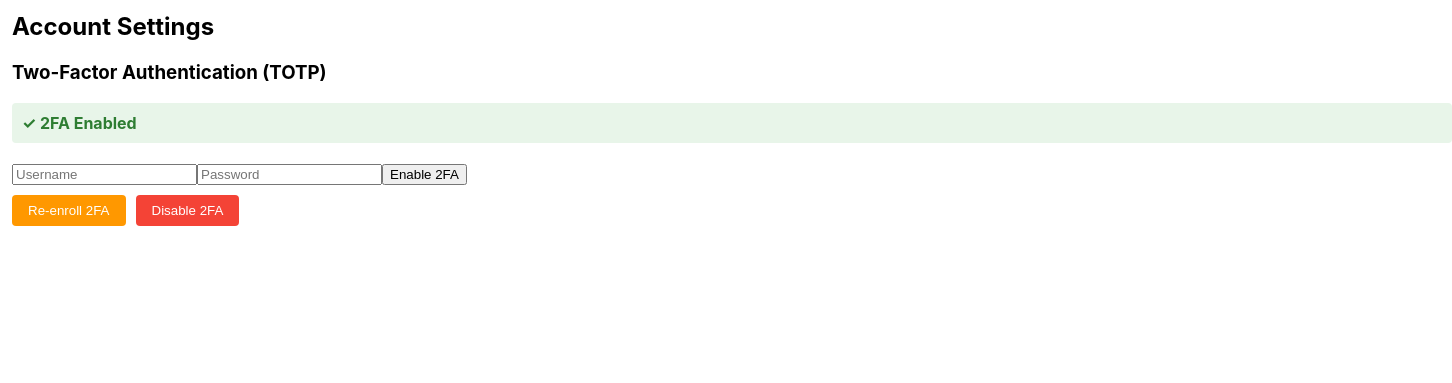
Scenario: Account 2FA Enrollment › allows canceling re-enrollment
Click re-enroll button
Click the button "Re-enroll 2FA". click: coordinates (69, 210)
box: [12,194,126,226]
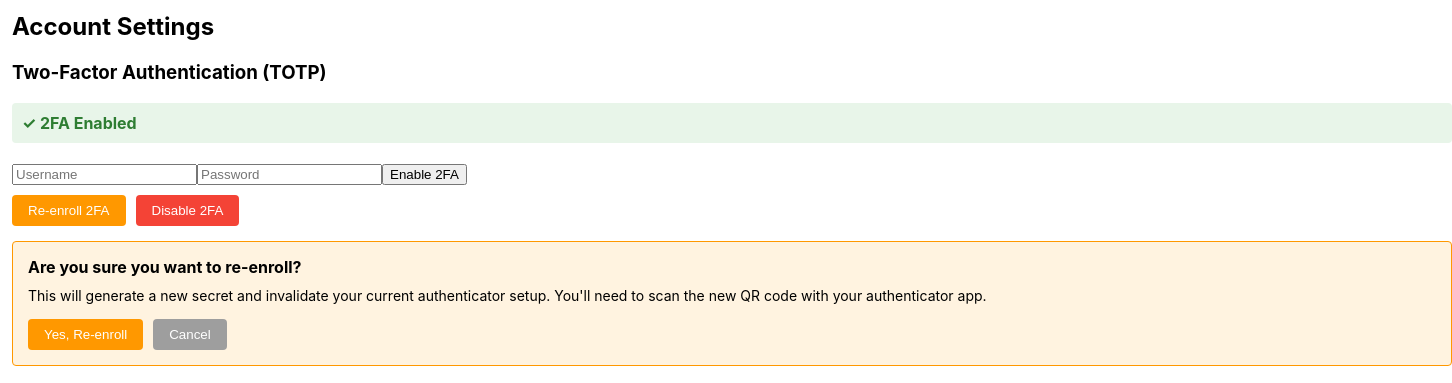
Result: the text "Are you sure you want to re-enroll?" is shown at [28,256,302,276]
Click cancel
Click the button "Cancel". click: coordinates (190, 334)
box: [153,318,227,350]
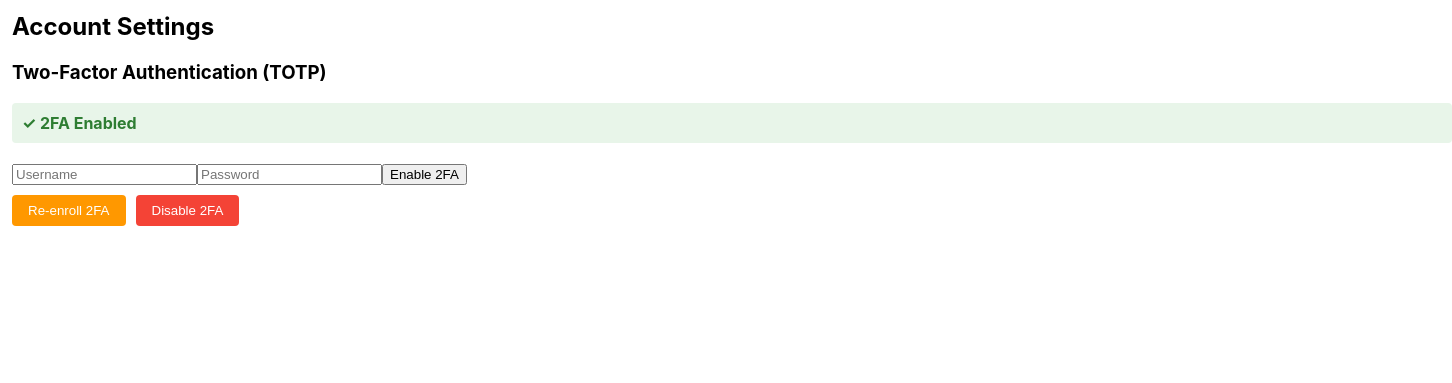
Result: the text "Are you sure you want to re-enroll" is gone
